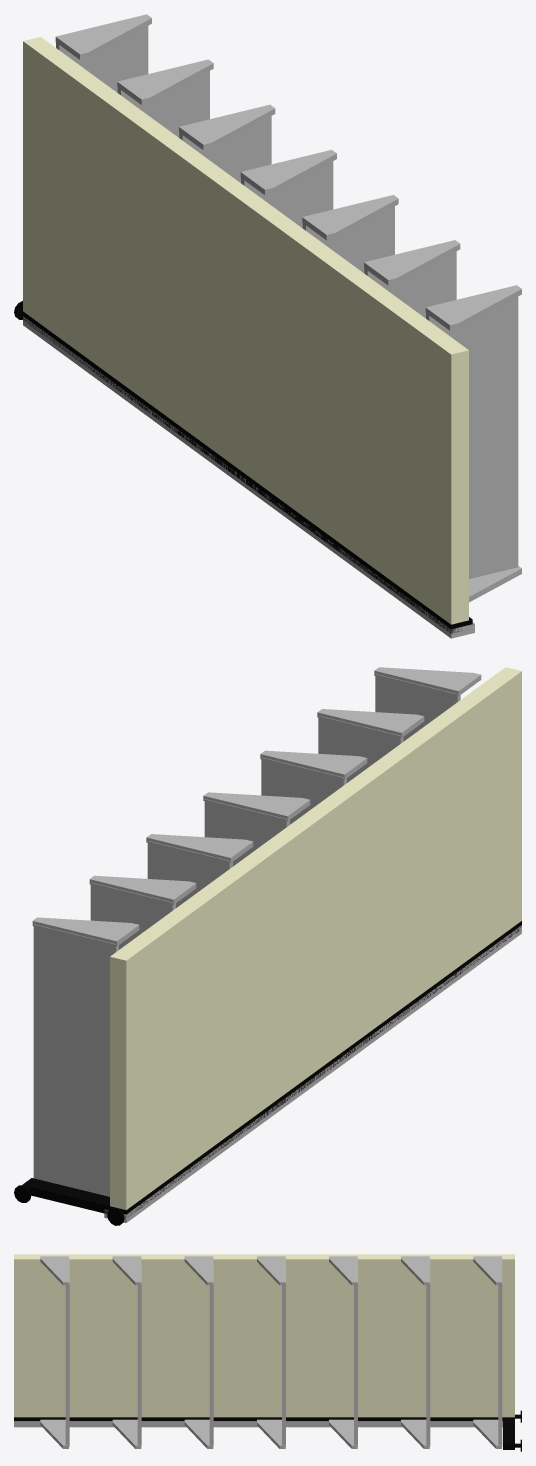
The model's file is nil_link_mesh.dae.
3 views of the same model, one above another, from view 1: azimuth 30°, elevation 25°; view 2: azimuth 150°, elevation 25°; view 3: azimuth 270°, elevation 25° (orthographic). The views are drawn at different scales.
Visible parts, largest first — view 1: nil_link (×10); view 2: nil_link (×11); view 3: nil_link (×11).
Boxes of the visible parts, x1=… form: nil_link (×10): x1=23, y1=14, x2=521, y2=638; nil_link (×11): x1=22, y1=667, x2=521, y2=1222; nil_link (×11): x1=14, y1=1254, x2=514, y2=1449.
Bounding box in the file's own units: 0.4 × 0.939 × 2.54.
